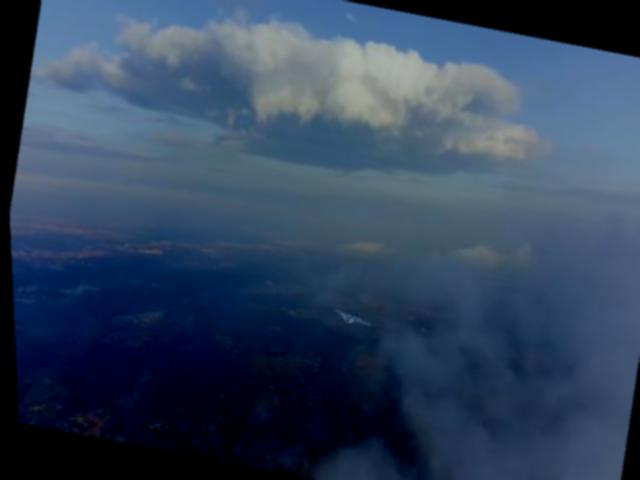uav: (327, 304, 373, 331)
